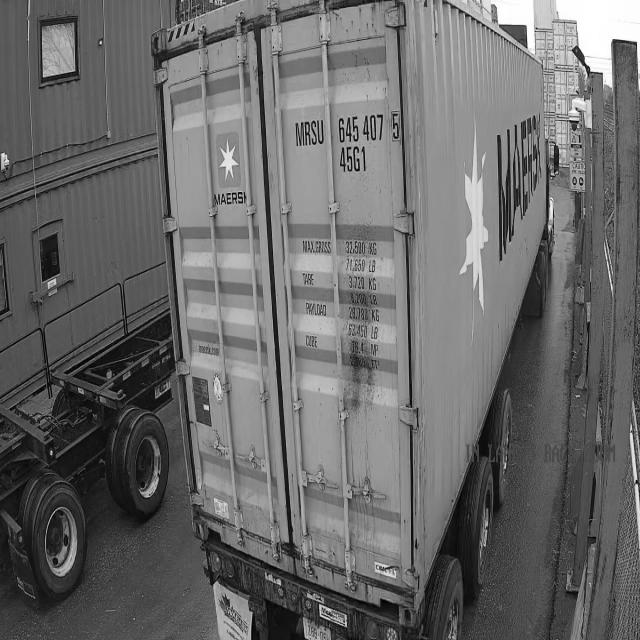container_company_logo: (495, 105, 546, 265), (210, 128, 249, 207)
container_number: (292, 116, 404, 177)
license_plate: (301, 612, 339, 640)
other_container_info: (300, 230, 396, 381)
truck_trailer: (0, 312, 174, 601)
truck_with_container: (151, 0, 552, 639)
